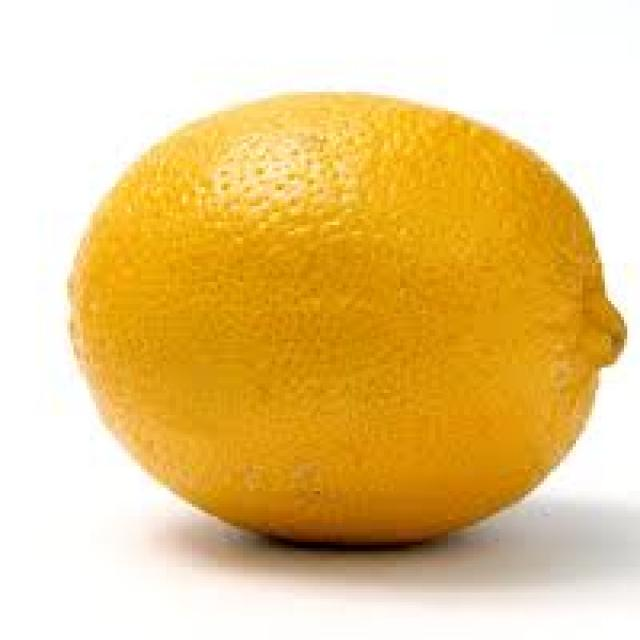lemon: (61, 99, 640, 516)
